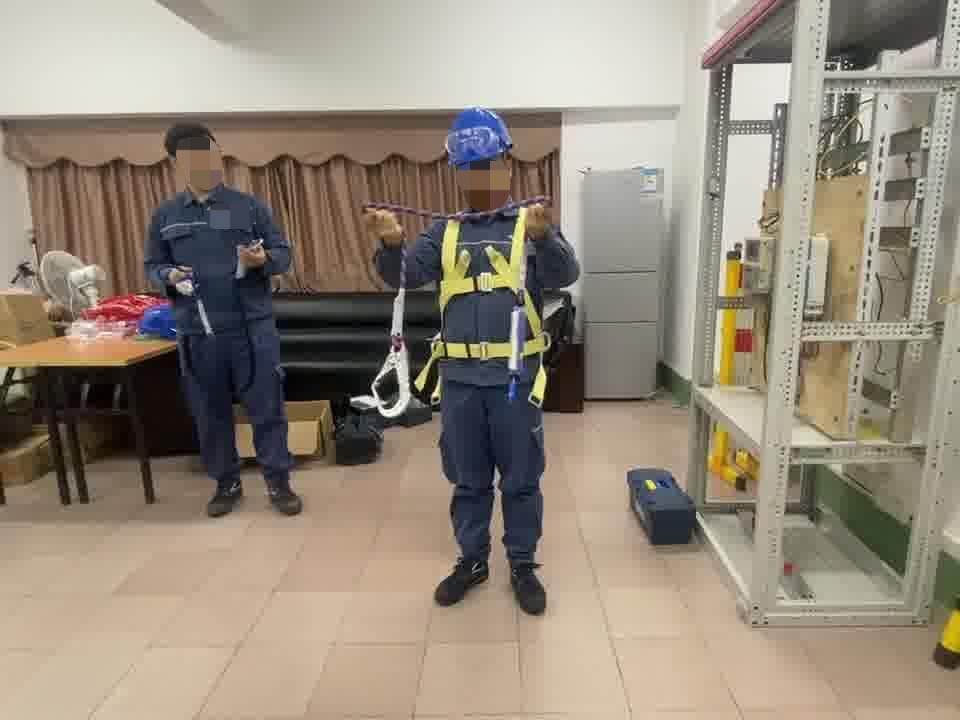halt: (447, 108, 519, 206)
unhalt: (166, 120, 227, 195)
